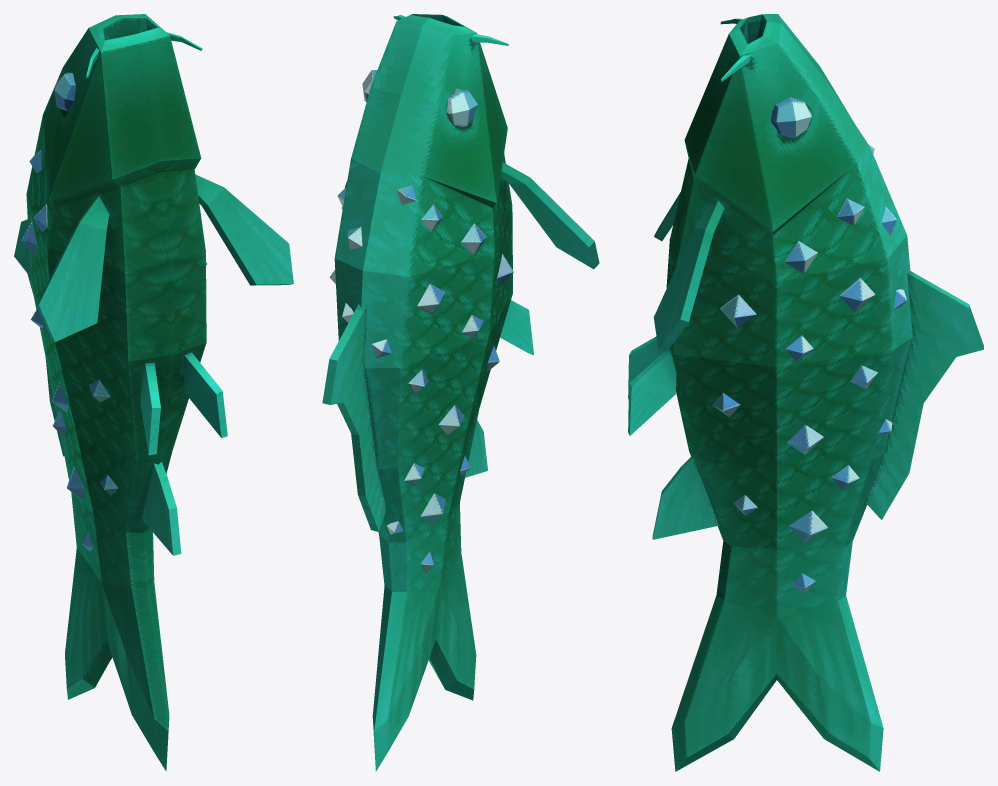
Rendered from item_fish_diamond_jade_koi.glb.
The picture shows the model from 3 angles, left to right: view 1: azimuth 30°, elevation 25°; view 2: azimuth 150°, elevation 25°; view 3: azimuth 270°, elevation 25°; orthographic projection. The views are drawn at different scales.
Parts seen in each view (by area): view 1: fish_diamondKoi; view 2: fish_diamondKoi; view 3: fish_diamondKoi.
Part boxes in pixels (x1,y1,x2,y2): fish_diamondKoi: (14, 14, 293, 771); fish_diamondKoi: (322, 14, 599, 771); fish_diamondKoi: (628, 14, 983, 771).
Size of the model in its own units: 0.202 by 0.5566 by 0.2391.
Materials: 1 (1 with a texture image).
